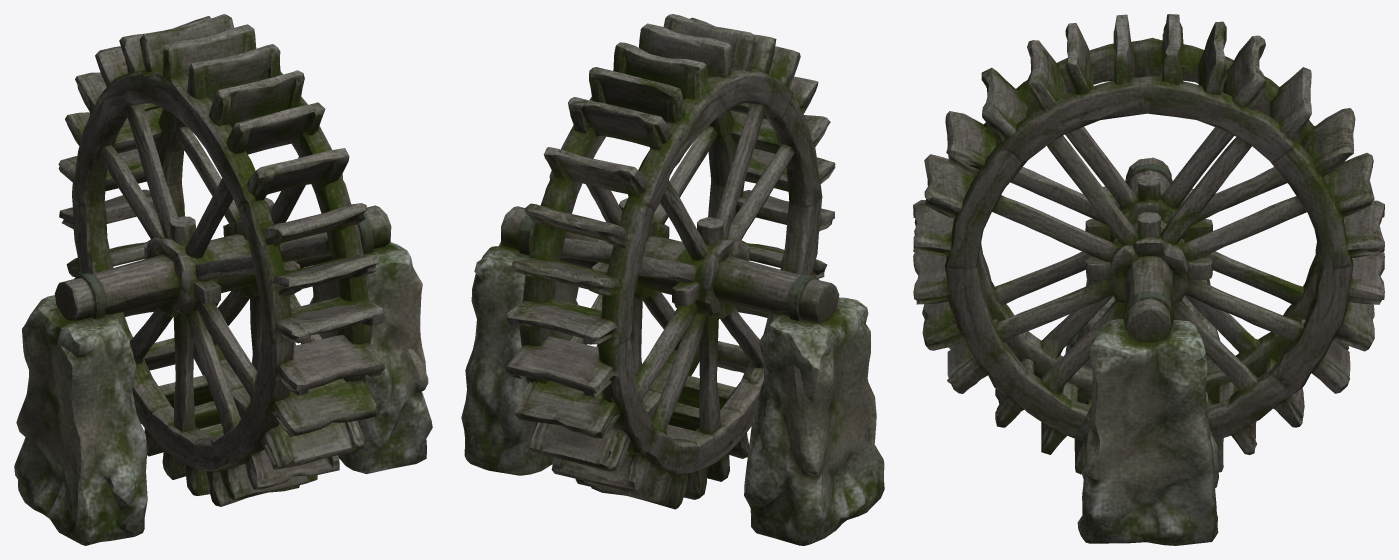
3 renders of one model, left to right at view 1: azimuth 30°, elevation 25°; view 2: azimuth 150°, elevation 25°; view 3: azimuth 270°, elevation 25°, orthographic. The views are drawn at different scales.
Parts seen in each view (by area): view 1: world; view 2: world; view 3: world.
Part boxes in pixels (box(x1,y1,x2,y2)): world: box(14, 14, 432, 545); world: box(461, 14, 884, 545); world: box(913, 14, 1384, 545).
Size of the model in its own units: 2.64 by 3 by 3.
1 material, 1 textured.
